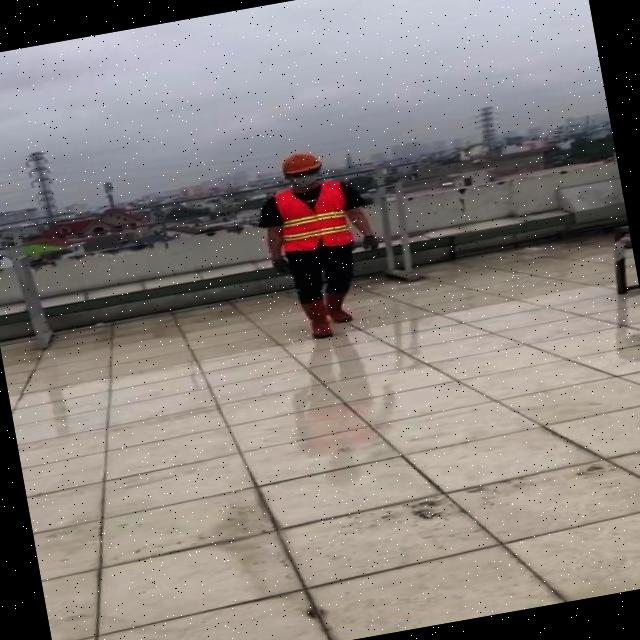boots: (297, 296, 333, 340), (320, 284, 354, 326)
helmet: (278, 148, 321, 176)
vest: (272, 178, 356, 258)
